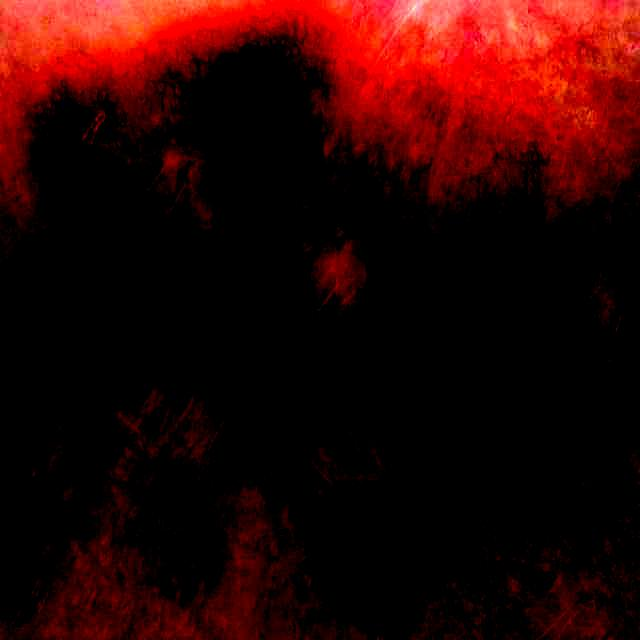MEL: (163, 141, 597, 531)
